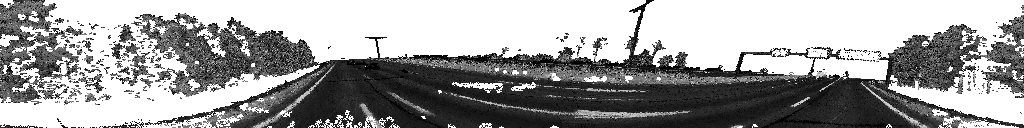gantry_sign_pole: (734, 47, 893, 88)
light_pole: (623, 0, 653, 71), (365, 38, 386, 60), (808, 59, 815, 77)
traffic_pole: (760, 69, 767, 78)
